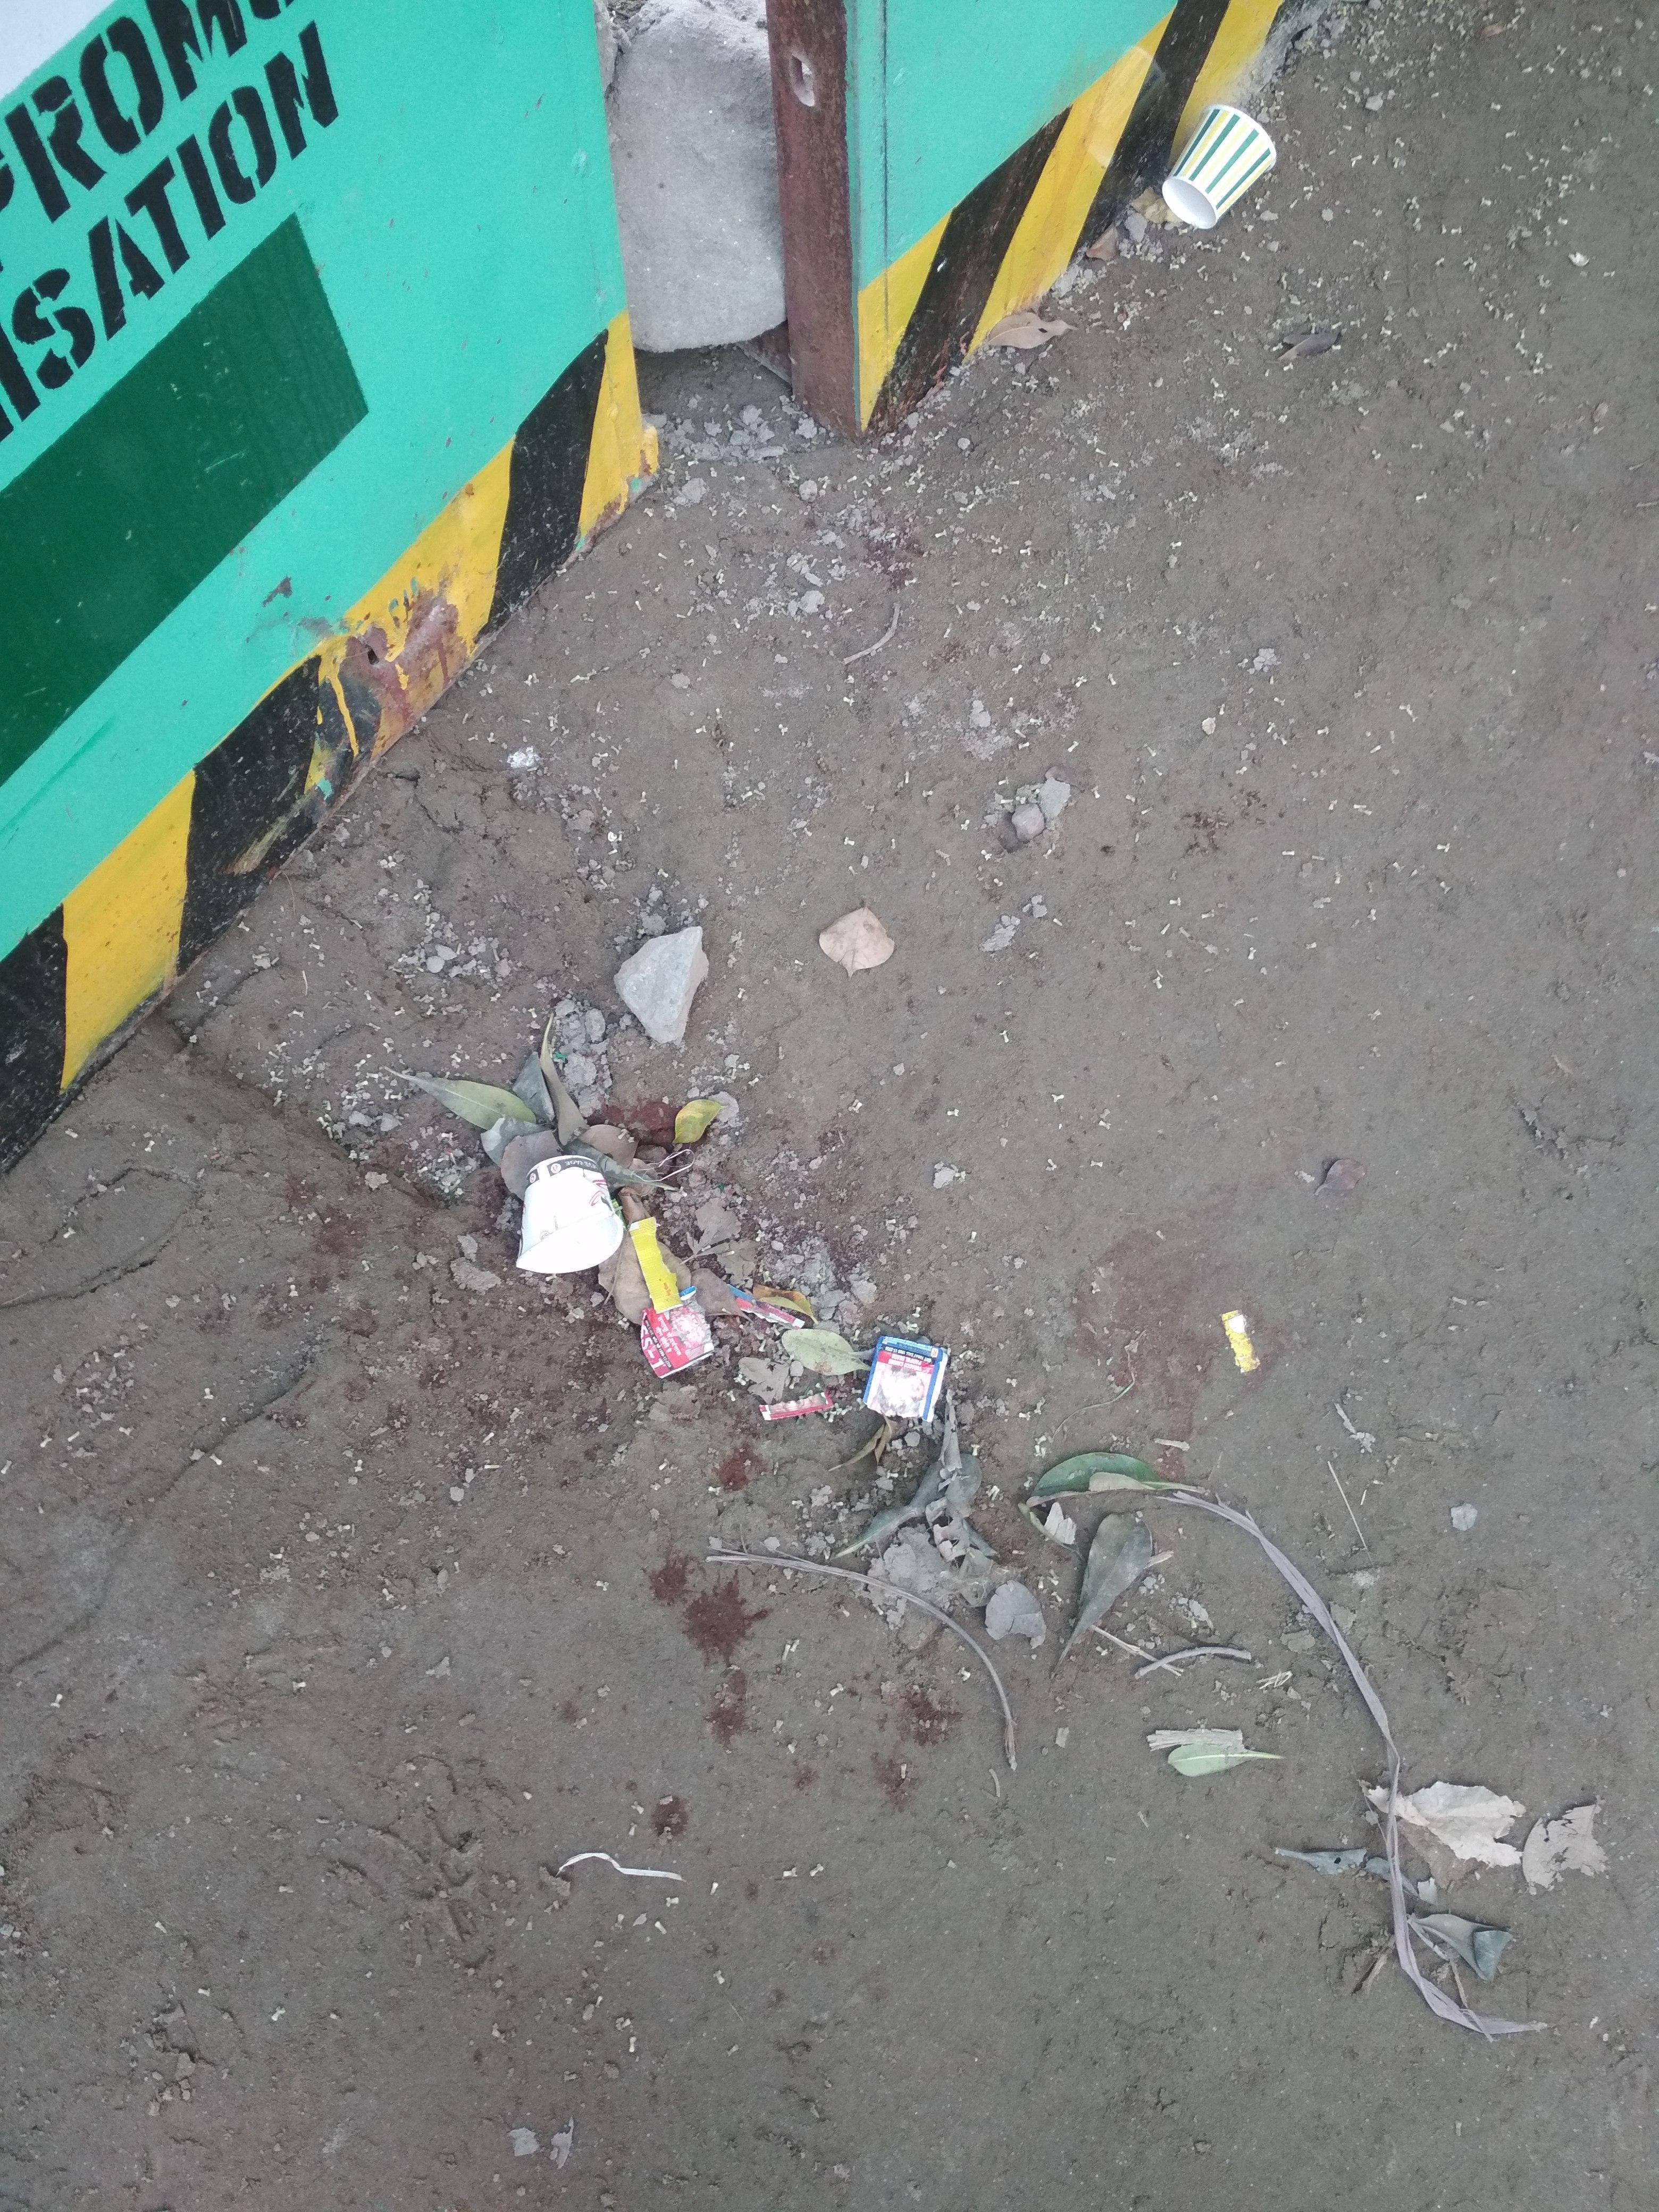trash: (387, 923, 972, 1468)
